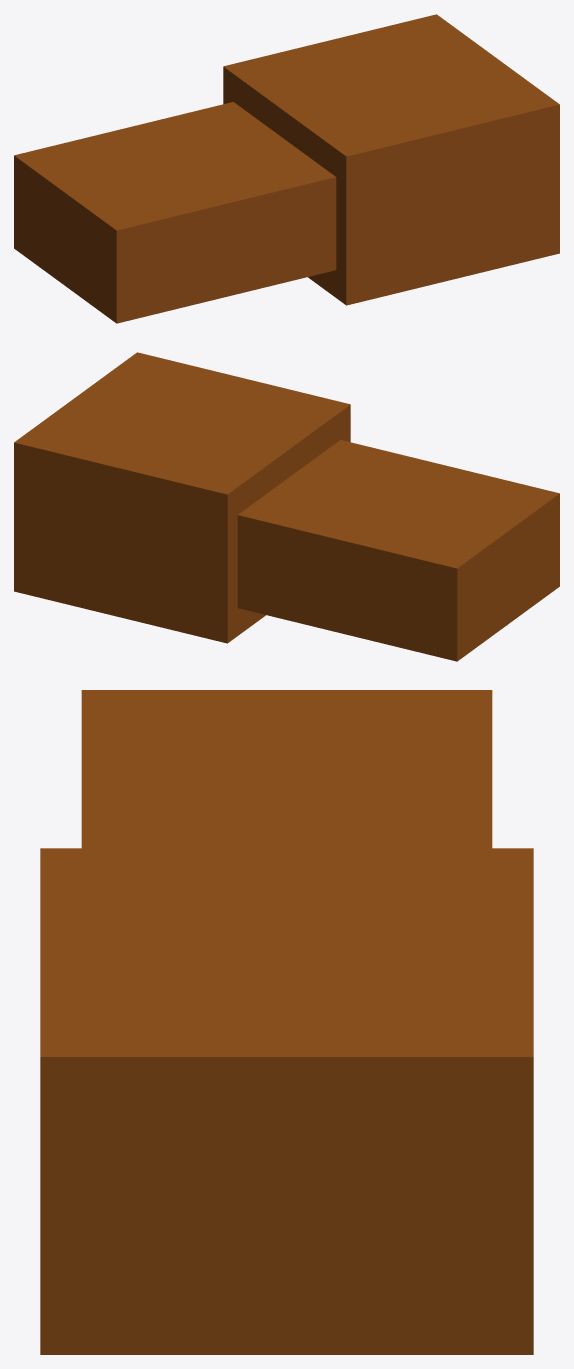
Rendered from clock_speaker.obj.
The picture shows the model from 3 angles, top to bottom: view 1: azimuth 30°, elevation 25°; view 2: azimuth 150°, elevation 25°; view 3: azimuth 270°, elevation 25°; orthographic projection. The views are drawn at different scales.
Parts seen in each view (by area): view 1: component, brass; view 2: component, brass; view 3: component, brass.
Boxes of the visible parts, bbox=[...] form: component: bbox=[223, 14, 559, 305]; brass: bbox=[14, 102, 336, 323]; component: bbox=[14, 352, 350, 643]; brass: bbox=[237, 440, 559, 661]; component: bbox=[40, 848, 533, 1354]; brass: bbox=[81, 690, 492, 848].
Bounding box in the file's own units: 0.73 × 0.24 × 0.36.
